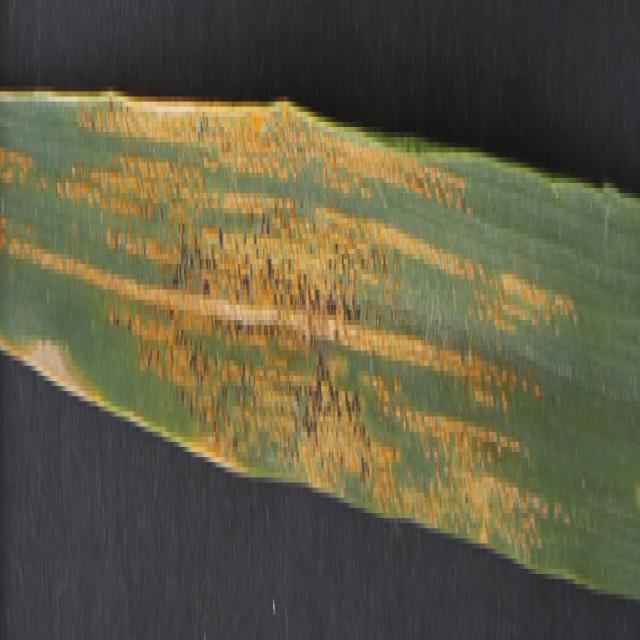leaf rust: (1, 66, 577, 604)
